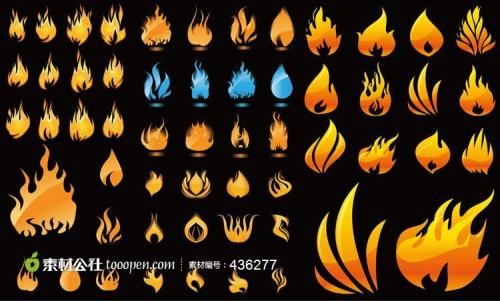fire: (12, 165, 79, 230), (59, 9, 93, 42), (67, 105, 97, 142), (141, 126, 173, 149), (37, 104, 60, 136), (105, 107, 125, 141), (37, 13, 58, 43), (10, 61, 27, 86)
